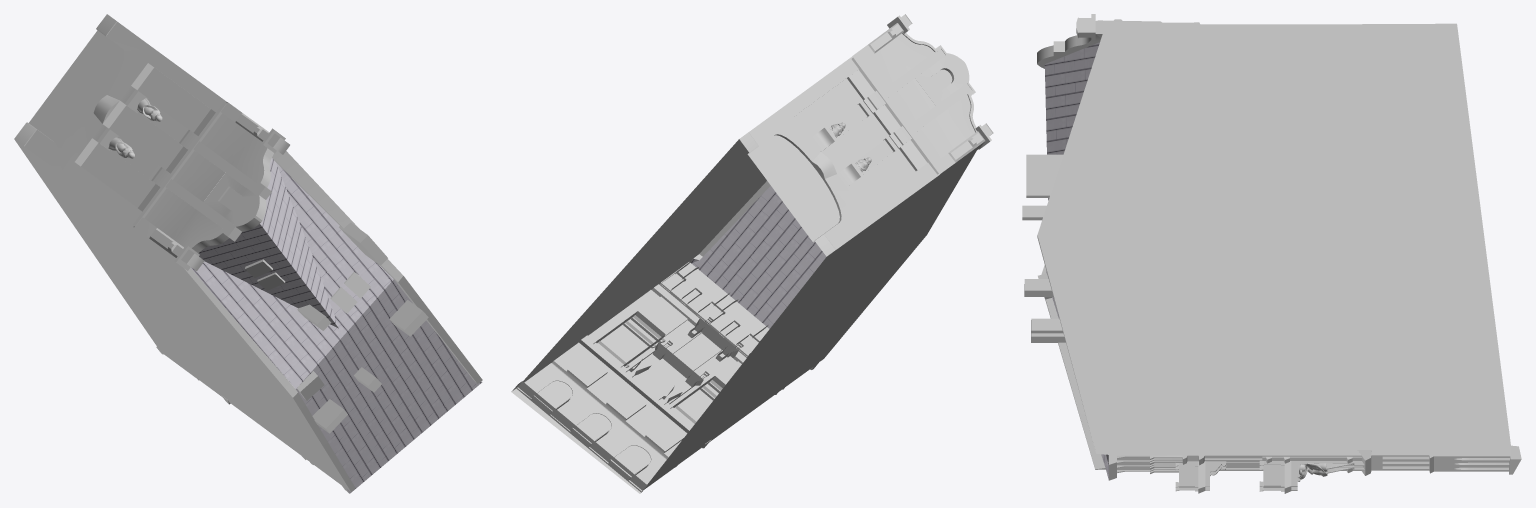
The model's file is Pikk_18.obj.
3 renders of one model, left to right at view 1: azimuth 30°, elevation 25°; view 2: azimuth 150°, elevation 25°; view 3: azimuth 270°, elevation 25°, orthographic. The views are drawn at different scales.
Visible parts, largest first — view 1: Pikk_18; view 2: Pikk_18; view 3: Pikk_18.
Part boxes in pixels (x1,y1,x2,y2): Pikk_18: (14,14,482,493); Pikk_18: (511,14,993,493); Pikk_18: (1022,14,1521,493).
Bounding box in the file's own units: 19.27 × 22.86 × 24.48.
